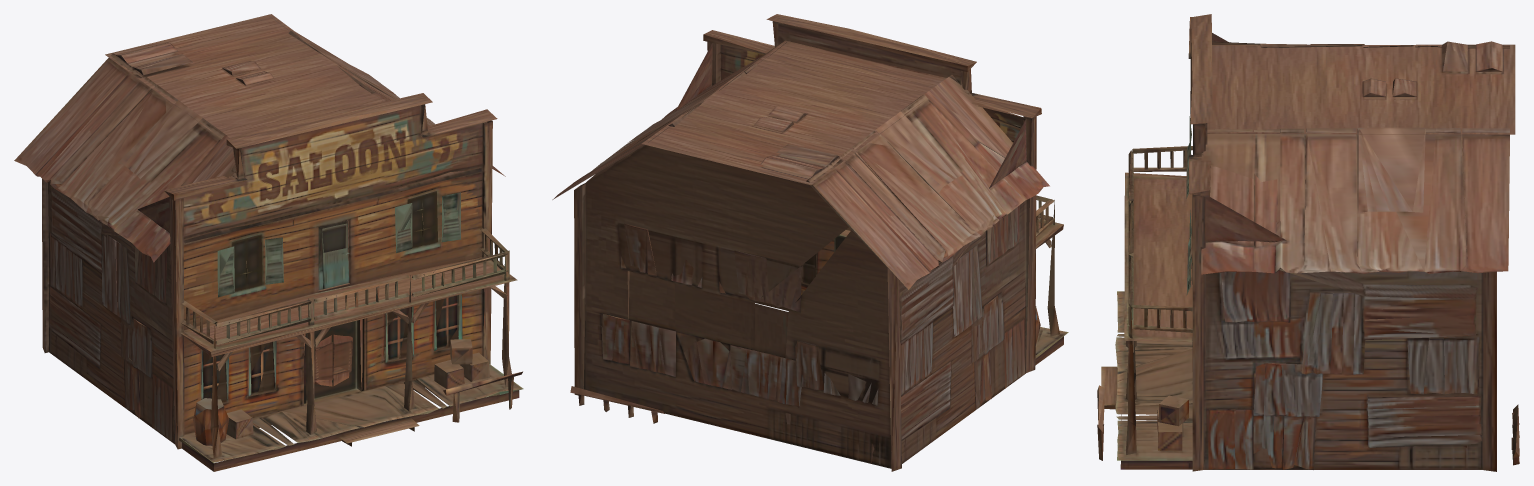
The model's file is wl_saloon_far.glb.
The picture shows the model from 3 angles, left to right: view 1: azimuth 30°, elevation 25°; view 2: azimuth 150°, elevation 25°; view 3: azimuth 270°, elevation 25°; orthographic projection. The views are drawn at different scales.
Visible parts, largest first — view 1: wl_saloon; view 2: wl_saloon; view 3: wl_saloon.
Boxes of the visible parts, x1=… form: wl_saloon: x1=14, y1=14, x2=523, y2=471; wl_saloon: x1=552, y1=14, x2=1068, y2=471; wl_saloon: x1=1097, y1=14, x2=1519, y2=471.
Size of the model in its own units: 10.81 by 8.5 by 10.16.
Materials: 1 (1 with a texture image).
